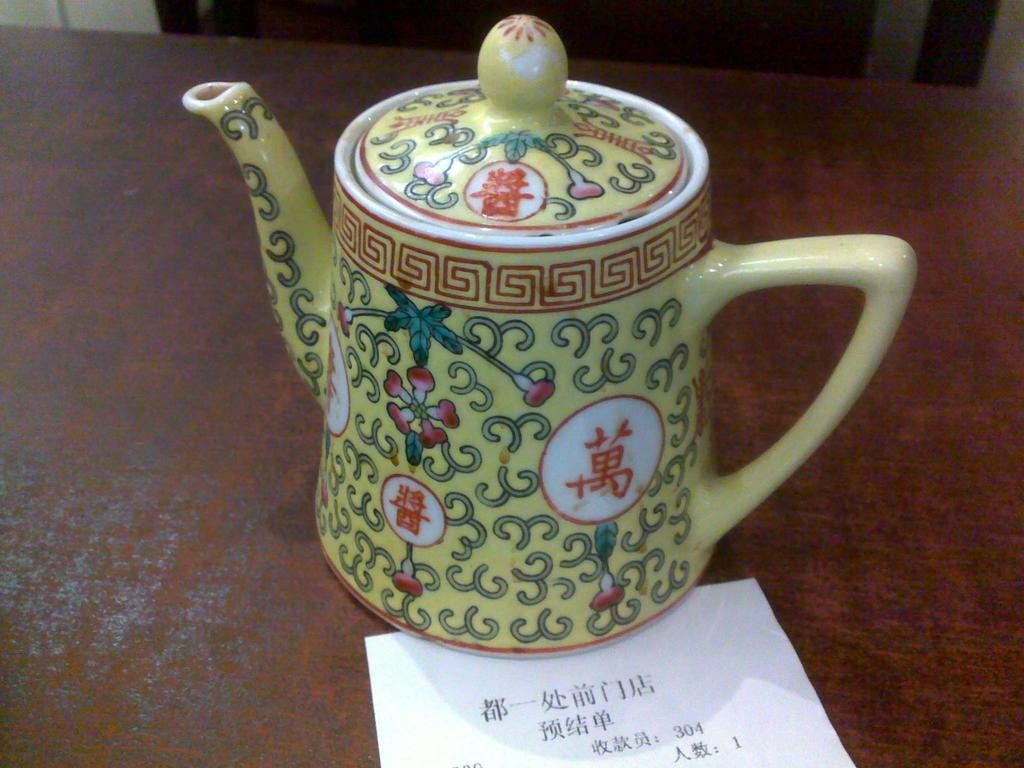teapot: (182, 14, 918, 661)
